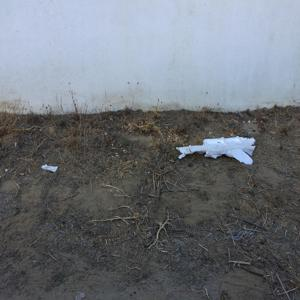plastic: (168, 131, 271, 166), (40, 163, 64, 180)
